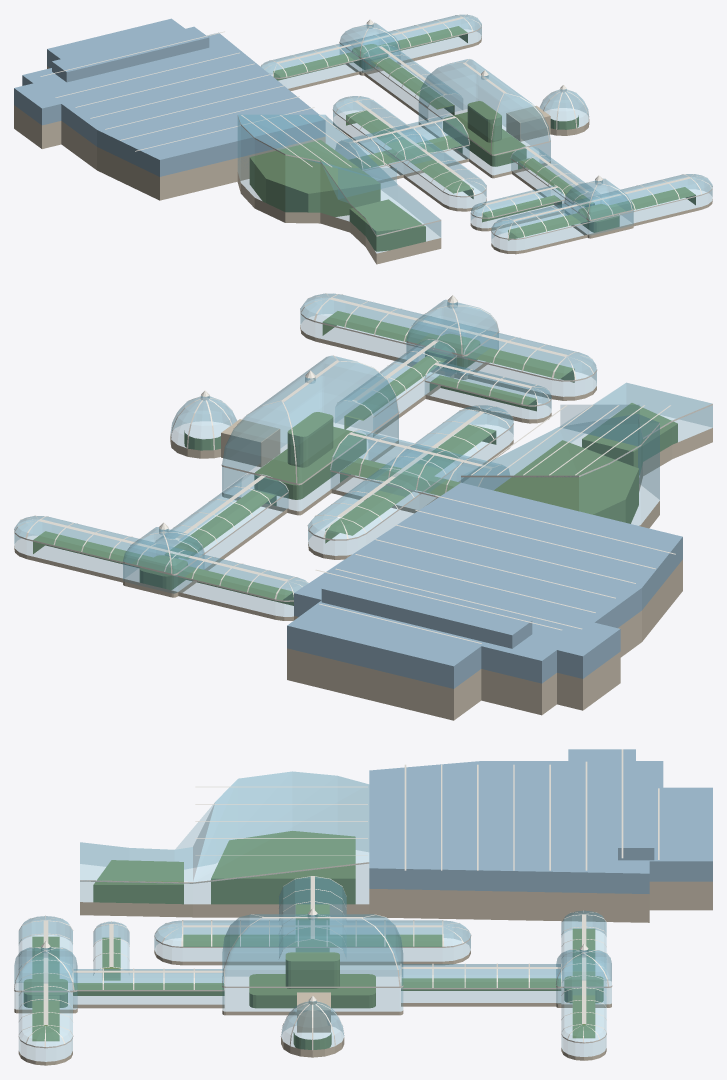
File: pit-phipps-conservatory.glb
The picture shows the model from 3 angles, top to bottom: view 1: azimuth 30°, elevation 25°; view 2: azimuth 150°, elevation 25°; view 3: azimuth 270°, elevation 25°; orthographic projection. The views are drawn at different scales.
Visible parts, largest first — view 1: Phipps Conservatory; view 2: Phipps Conservatory; view 3: Phipps Conservatory.
Part boxes in pixels (left/top/right/bottom): Phipps Conservatory: left=14, top=14, right=712, bottom=264; Phipps Conservatory: left=14, top=293, right=712, bottom=720; Phipps Conservatory: left=14, top=749, right=712, bottom=1065.
Size of the model in its own units: 140 by 21.92 by 155.
